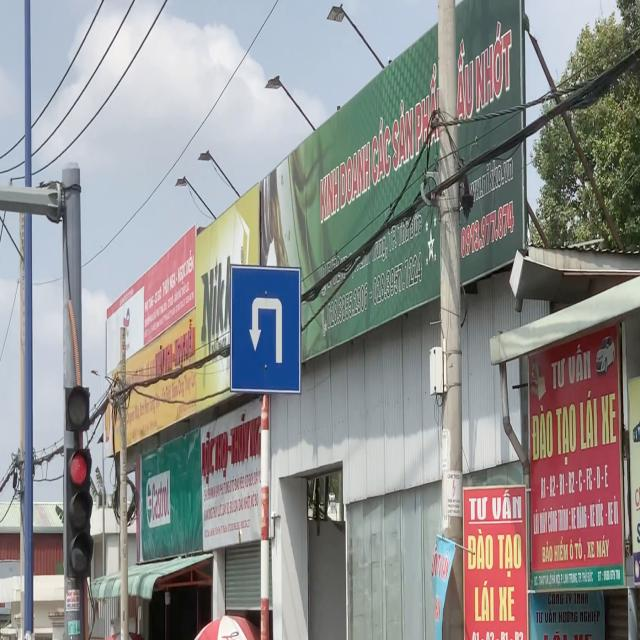Chi dan: (230, 261, 300, 393)
